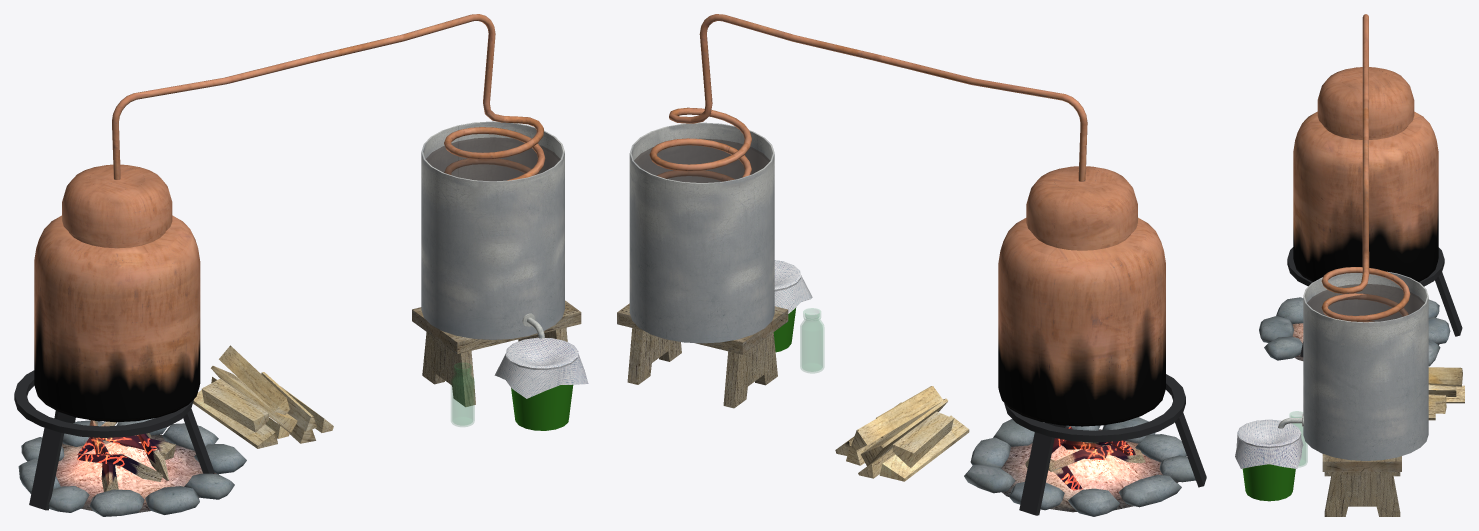
Rendered from distillery.gltf.
3 renders of one model, left to right at view 1: azimuth 30°, elevation 25°; view 2: azimuth 150°, elevation 25°; view 3: azimuth 270°, elevation 25°, orthographic. The views are drawn at different scales.
Parts seen in each view (by area): view 1: boiler_geo, cooler_hull_geo, stones_geo, wood_geo, pipe_geo, tripod_geo, ashes_geo, stool_geo, cheeseCloth_geo, cooler_water_geo, firewood_geo, bucket_geo (+1 smaller); view 2: boiler_geo, cooler_hull_geo, stones_geo, pipe_geo, wood_geo, stool_geo, tripod_geo, ashes_geo, cooler_water_geo, firewood_geo, bottle_geo, cheeseCloth_geo; view 3: boiler_geo, cooler_hull_geo, pipe_geo, stool_geo, stones_geo, cheeseCloth_geo, cooler_water_geo, bucket_geo, wood_geo, tripod_geo, bottle_geo.
Boxes of the visible parts, x1,y1,x2,y2 form: boiler_geo: (34,164,200,422); cooler_hull_geo: (421,121,564,339); stones_geo: (18,418,246,516); wood_geo: (193,345,333,448); pipe_geo: (112,14,545,180); tripod_geo: (14,370,214,510); ashes_geo: (56,434,218,512); stool_geo: (412,300,581,406); cheeseCloth_geo: (494,337,588,398); cooler_water_geo: (426,137,560,181); firewood_geo: (77,420,175,491); bucket_geo: (511,384,573,430); boiler_geo: (998,166,1165,426); cooler_hull_geo: (629,122,774,343); stones_geo: (964,417,1195,516); pipe_geo: (649,14,1087,181); wood_geo: (835,386,969,481); stool_geo: (617,303,788,408); tripod_geo: (1004,374,1206,515); ashes_geo: (1001,429,1178,512); cooler_water_geo: (634,138,770,182); firewood_geo: (1025,426,1145,490); bottle_geo: (800,308,823,372); cheeseCloth_geo: (774,260,812,313); boiler_geo: (1293,67,1438,282); cooler_hull_geo: (1303,271,1428,460); pipe_geo: (1321,14,1410,321); stool_geo: (1322,454,1401,516); stones_geo: (1259,297,1450,366); cheeseCloth_geo: (1235,419,1303,468); cooler_water_geo: (1307,284,1424,322); bucket_geo: (1242,464,1295,501); wood_geo: (1428,367,1464,420); tripod_geo: (1287,247,1462,356); bottle_geo: (1290,411,1307,466).
Bounding box in the file's own units: 150 × 99.28 × 62.82.
4 materials, 2 textured.
